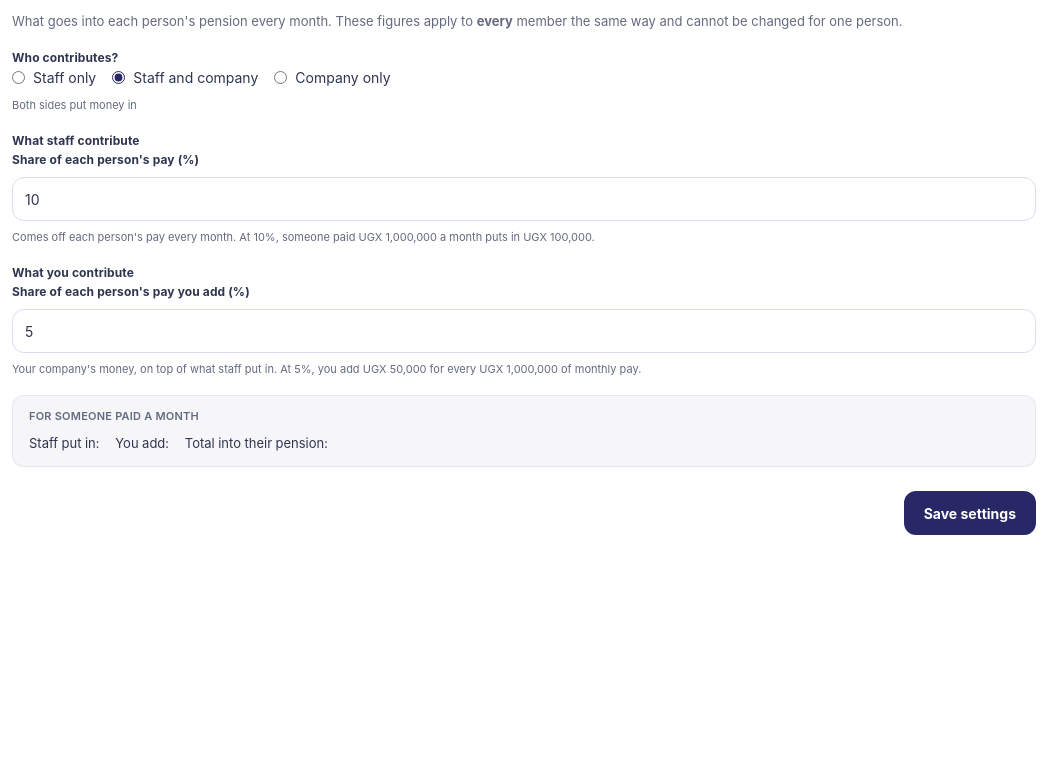
validation › rejects a percentage above 100 on a participating leg
Replace the text in the number field labelled "Share of each person's pay (%)" with "150" at (524, 199), box [12, 177, 1036, 221]
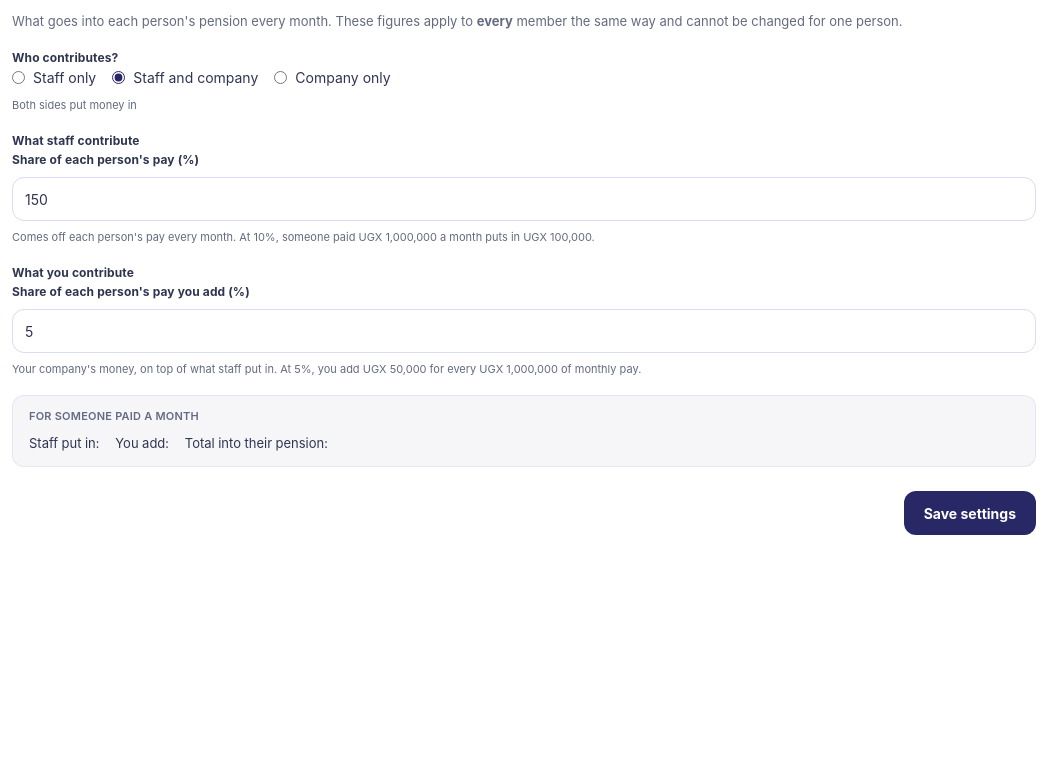
Click the button "Save settings" at (970, 513), box [904, 491, 1036, 535]
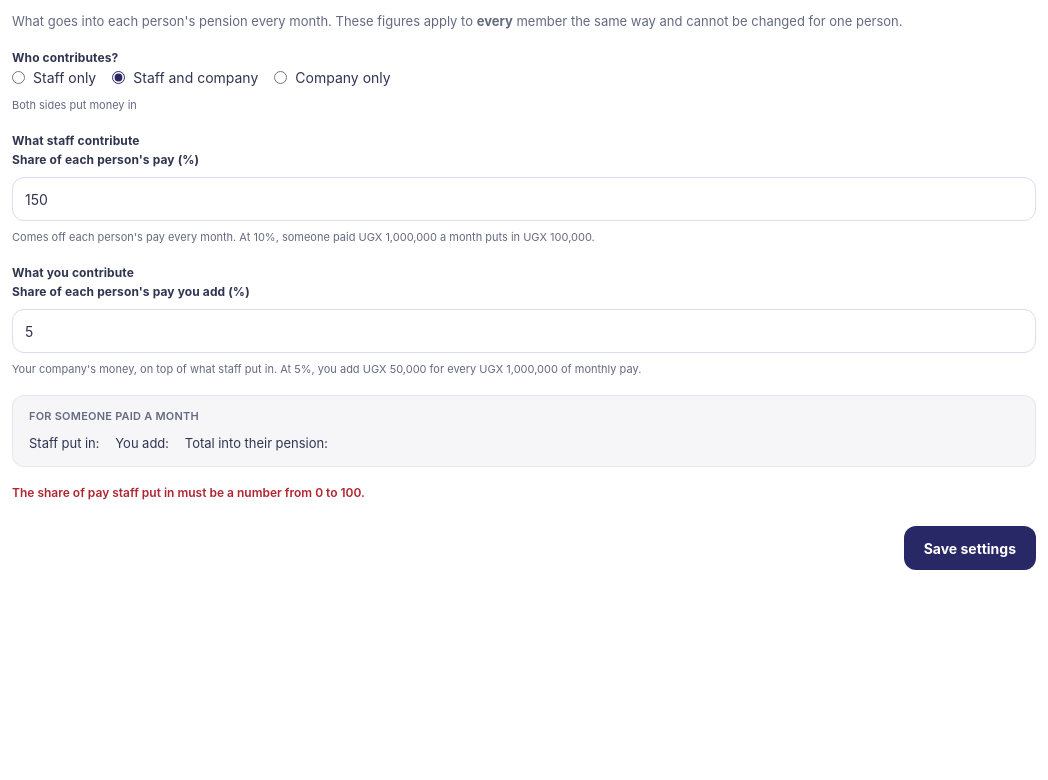
expect the message shows "from 0 to 100": met, box [12, 485, 365, 500]
